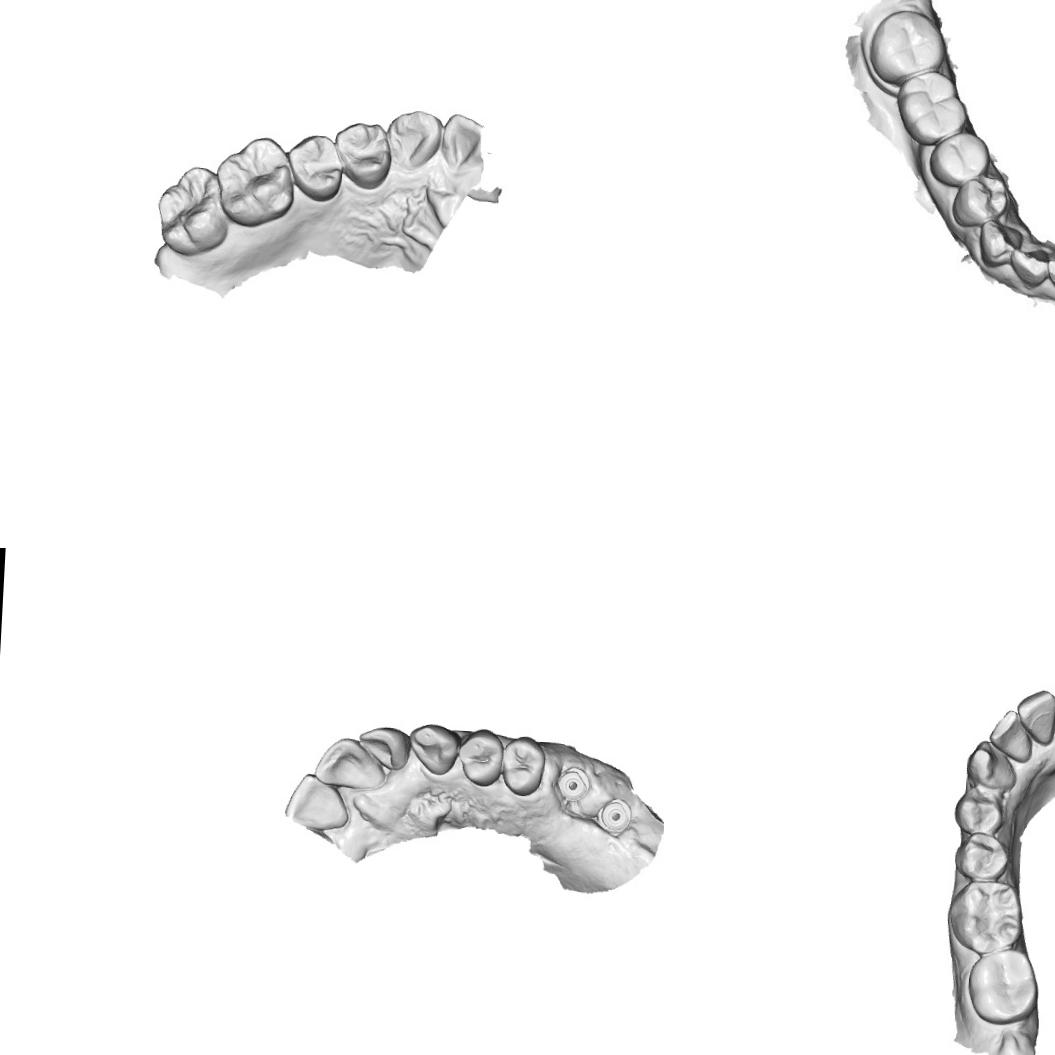canine: (382, 106, 446, 170), (960, 736, 1019, 792), (406, 722, 462, 777), (976, 222, 1014, 262)
implant: (596, 796, 632, 836), (556, 764, 592, 802)
incisor: (282, 770, 351, 832), (312, 735, 387, 791), (986, 706, 1036, 764), (1010, 686, 1055, 748), (356, 724, 412, 772), (1008, 247, 1046, 284), (1042, 254, 1055, 287)
molar: (148, 158, 234, 258), (214, 134, 298, 225), (943, 876, 1027, 959), (964, 944, 1042, 1028), (865, 7, 949, 81), (896, 72, 968, 140)
premolar: (284, 132, 346, 204), (334, 118, 393, 190), (948, 828, 1014, 885), (498, 732, 546, 798), (953, 175, 1015, 226), (950, 783, 1008, 837), (456, 726, 504, 788), (936, 134, 986, 176)
